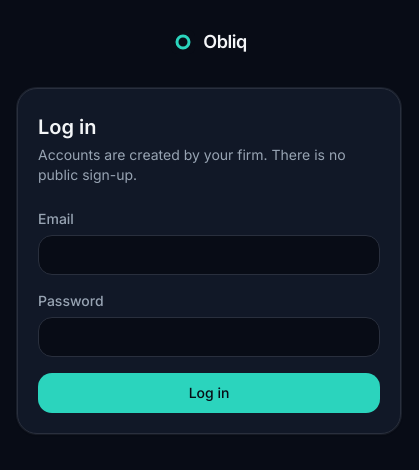
Test: LoginPage › shows the error message and does not redirect on failure
Type "ca@example.com" into the field labelled "Email" at (209, 255), box [38,235,380,275]
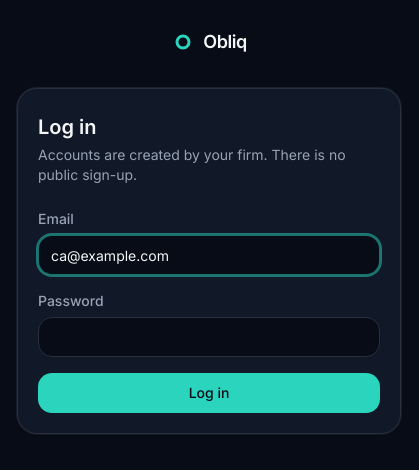
Type "wrong-password" into the password field labelled "Password" at (209, 337), box [38,317,380,357]
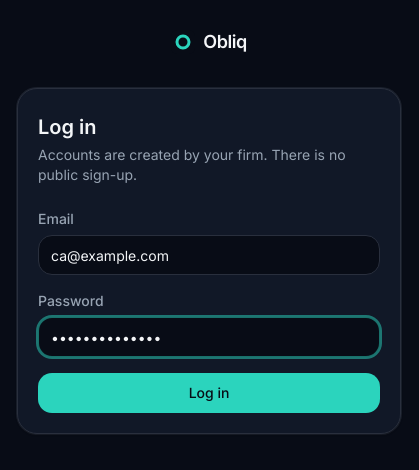
Click the button "Log in" at (209, 393), box [38,373,380,413]
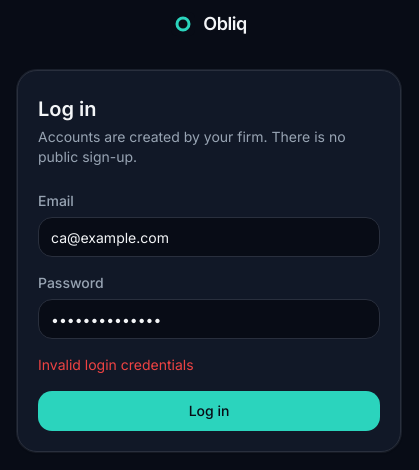
Now the text "Invalid login credentials" is shown, box [38,356,194,373]
